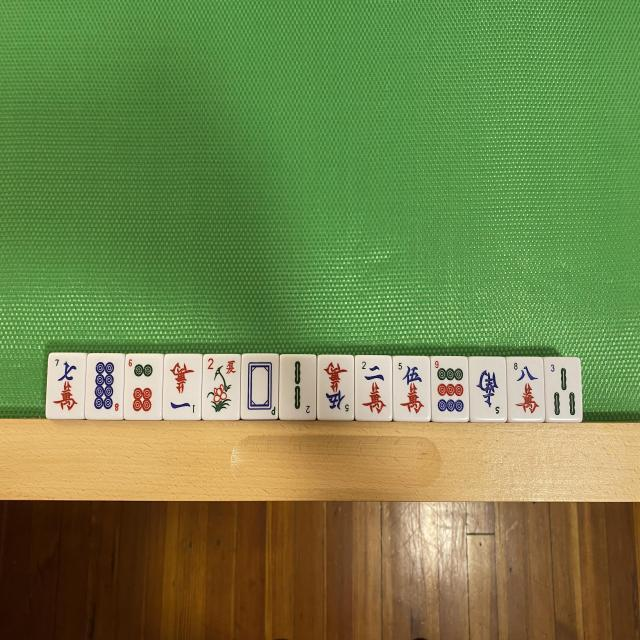bs2: (202, 354, 240, 419)
hdw: (242, 356, 278, 419)
hws: (472, 358, 508, 422)
sb2: (280, 354, 316, 418)
sb3: (547, 361, 582, 424)
sc1: (167, 353, 204, 418)
sc2: (356, 357, 390, 420)
sc5: (320, 355, 355, 419), (396, 356, 432, 418)
sc7: (49, 351, 87, 417)
sc8: (510, 360, 544, 421)
sd6: (126, 354, 162, 418)
sd8: (86, 353, 122, 418)
sd9: (430, 356, 466, 419)
